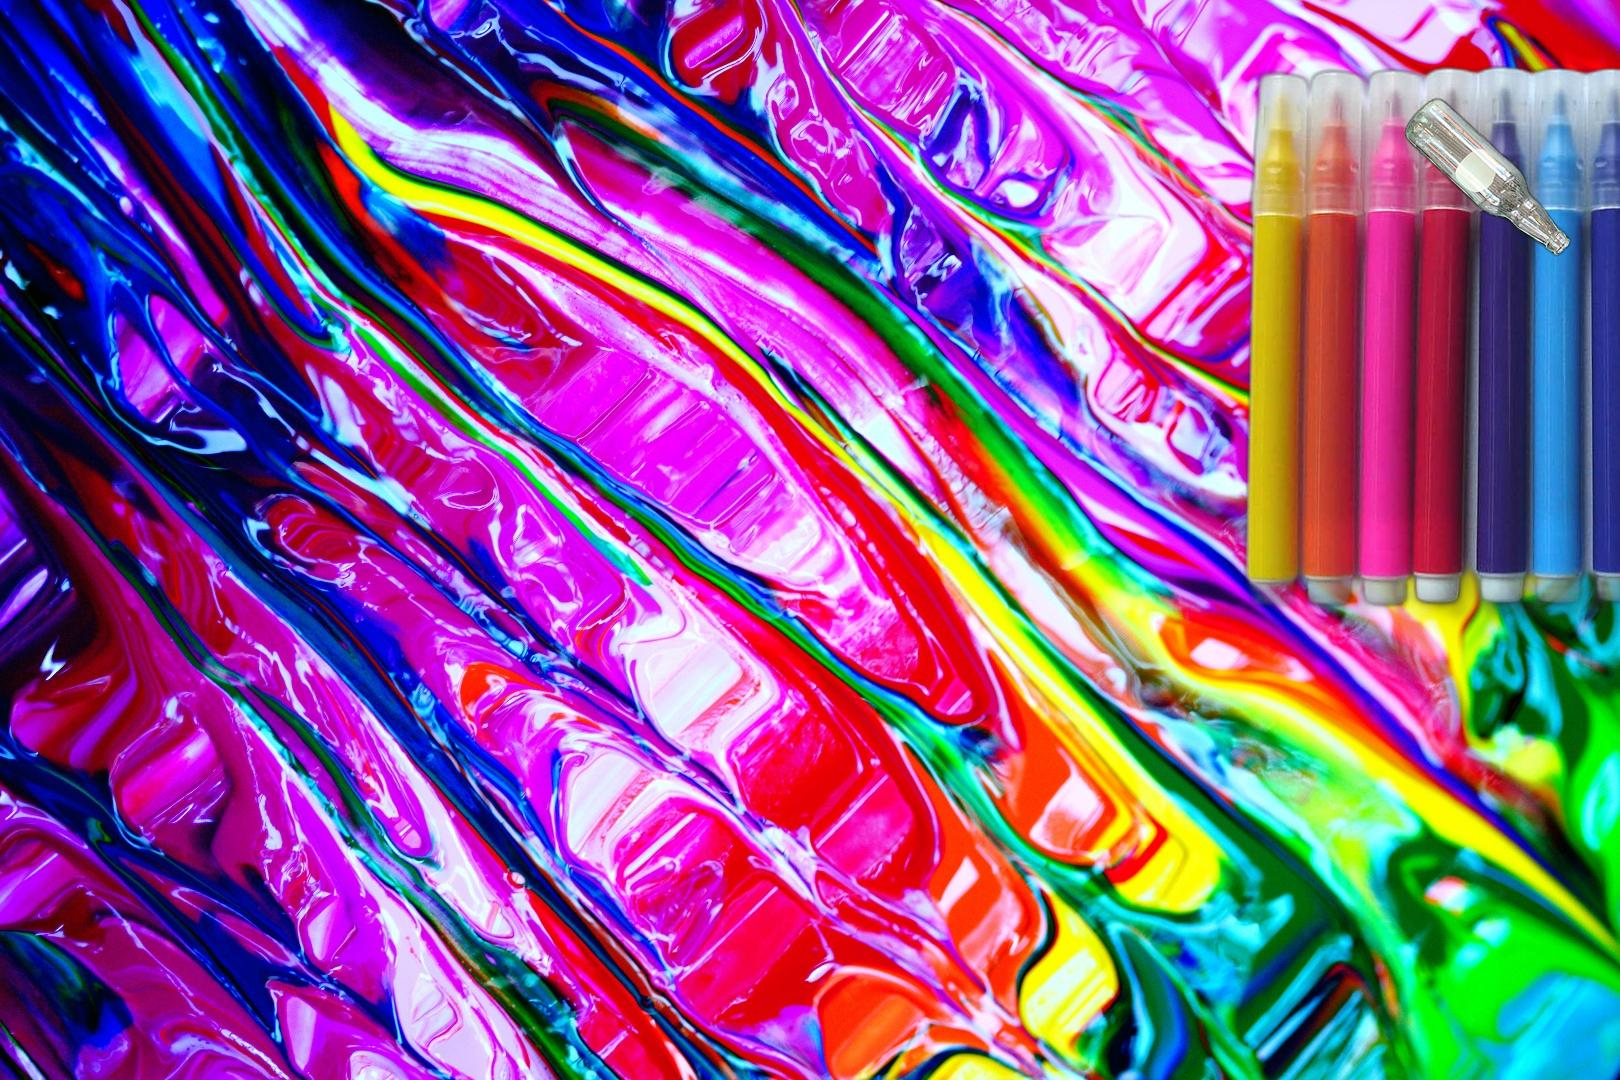glass: (1402, 92, 1574, 262)
penholder: (1197, 59, 1620, 724)
